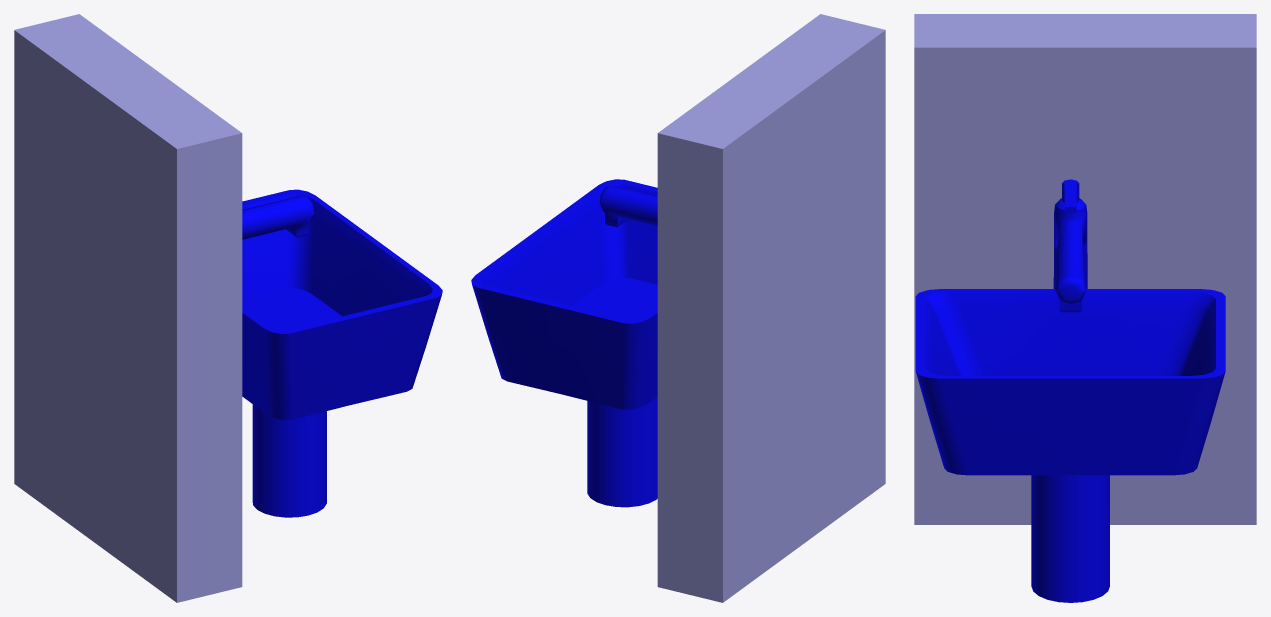
Rendered from King_Sink.fbx.
3 renders of one model, left to right at view 1: azimuth 30°, elevation 25°; view 2: azimuth 150°, elevation 25°; view 3: azimuth 270°, elevation 25°, orthographic. The views are drawn at different scales.
Visible parts, largest first — view 1: Mirror1, pCube1; view 2: Mirror1, pCube1; view 3: Mirror1, pCube1.
Part boxes in pixels (left/top/right/bottom): Mirror1: left=14, top=14, right=242, bottom=602; pCube1: left=242, top=189, right=442, bottom=517; Mirror1: left=657, top=14, right=885, bottom=602; pCube1: left=471, top=179, right=657, bottom=507; Mirror1: left=914, top=14, right=1256, bottom=524; pCube1: left=915, top=179, right=1225, bottom=602.
Size of the model in its own units: 1.57 by 2.48 by 1.61.
